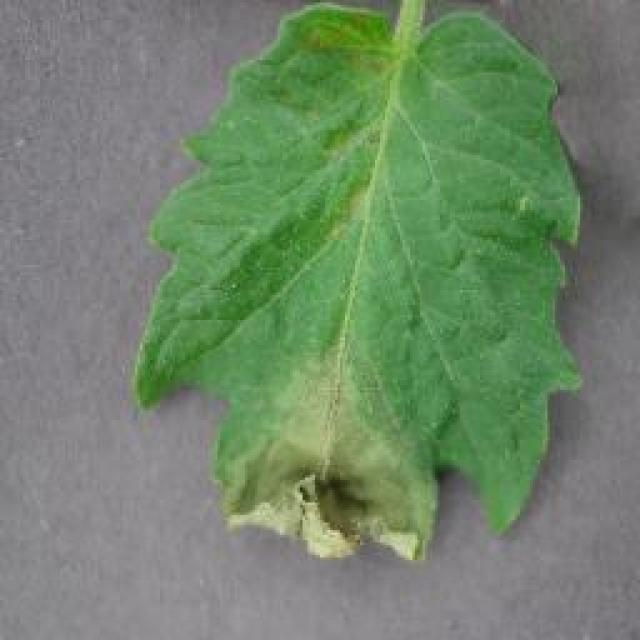Tomato late blight leaf: (135, 1, 590, 558)
